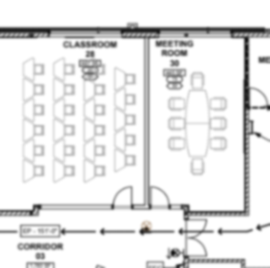door: (112, 184, 134, 209), (246, 86, 270, 108), (149, 185, 171, 208)
double door: (184, 218, 211, 257)
